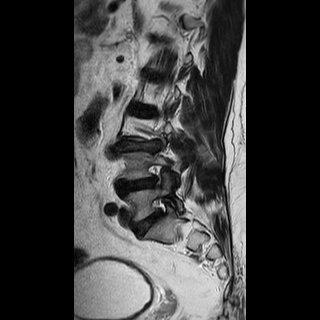LFS0: (144, 190, 177, 223), (140, 158, 172, 192)
